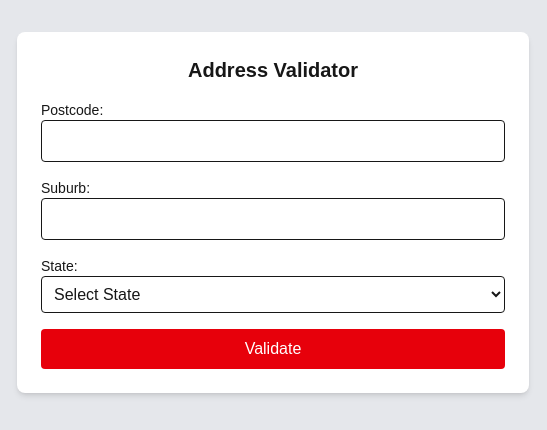
it: ValidateForm Component › displays error when response list is empty
Type "2001" into the field labelled "Postcode:".
click(273, 140); type("2001")  # box [41,120,505,162]
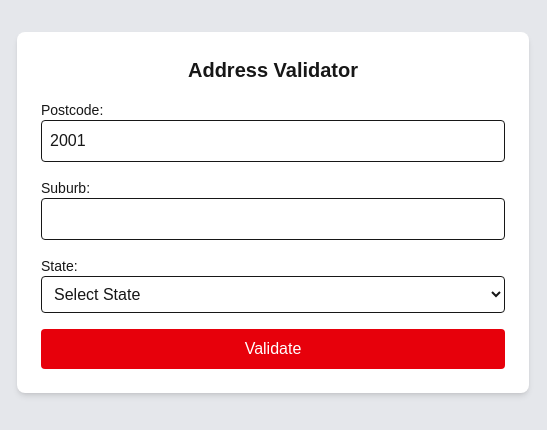
Type "Broadway" into the field labelled "Suburb:".
click(273, 218); type("Broadway")  # box [41,198,505,240]
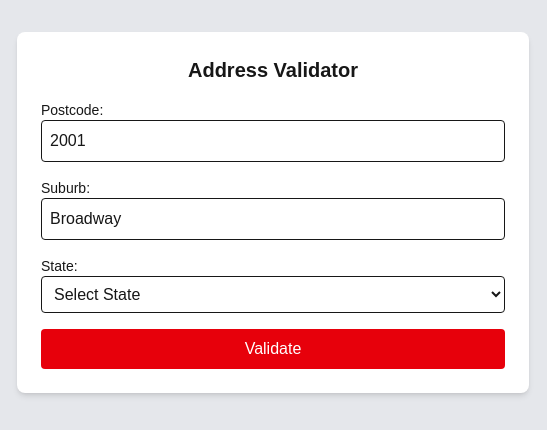
Select "NSW" in the dropdown labelled "State:" at (273,294), box [41,276,505,312]
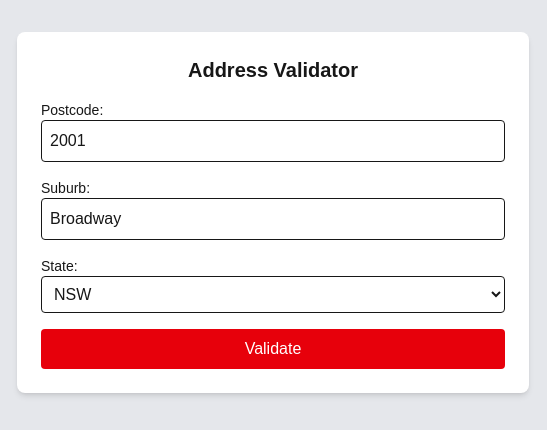
Submit the form from the button "Validate", box [41,328,505,368]
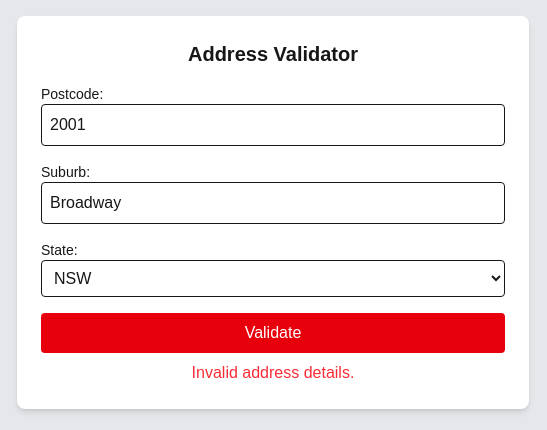
expect the text "Invalid address details." is shown: met, box [192,364,354,380]
